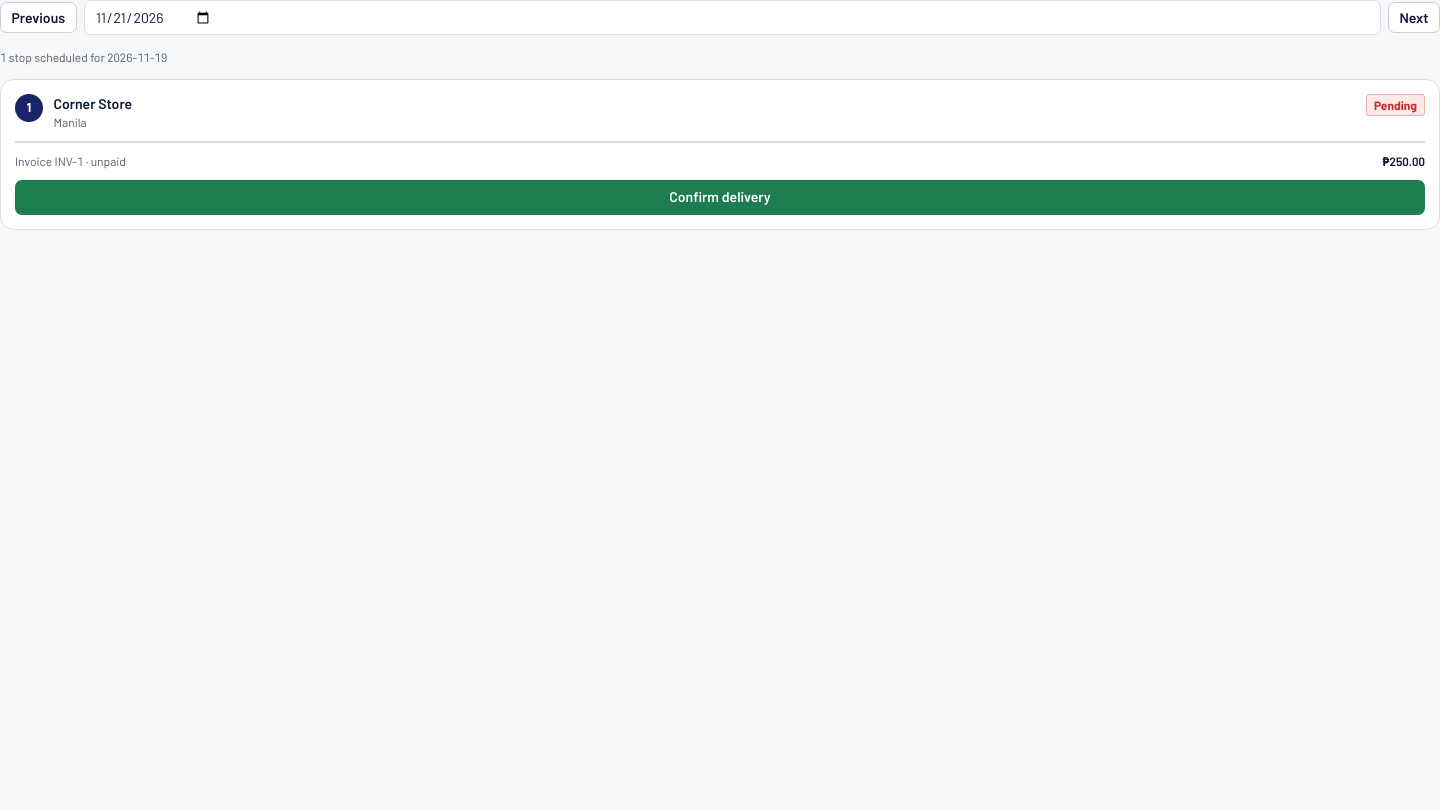
Scenario: DriverScheduleView › reloads the schedule after a stop is confirmed
Click the button "Confirm delivery".
click(720, 197)  # box top-left (15, 180), bottom-right (1425, 214)
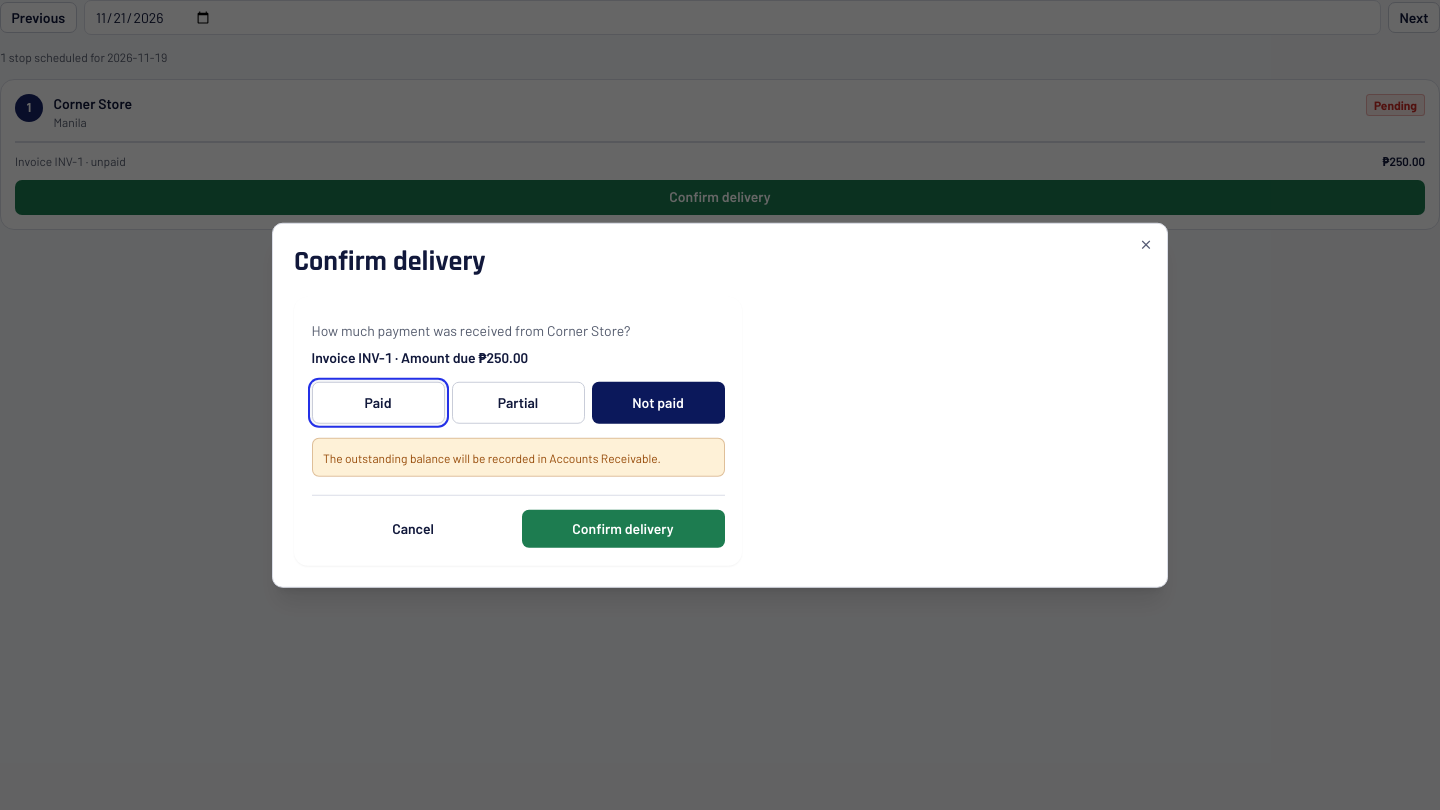
Click the button "Confirm delivery".
click(623, 529)  # box top-left (522, 509), bottom-right (724, 548)
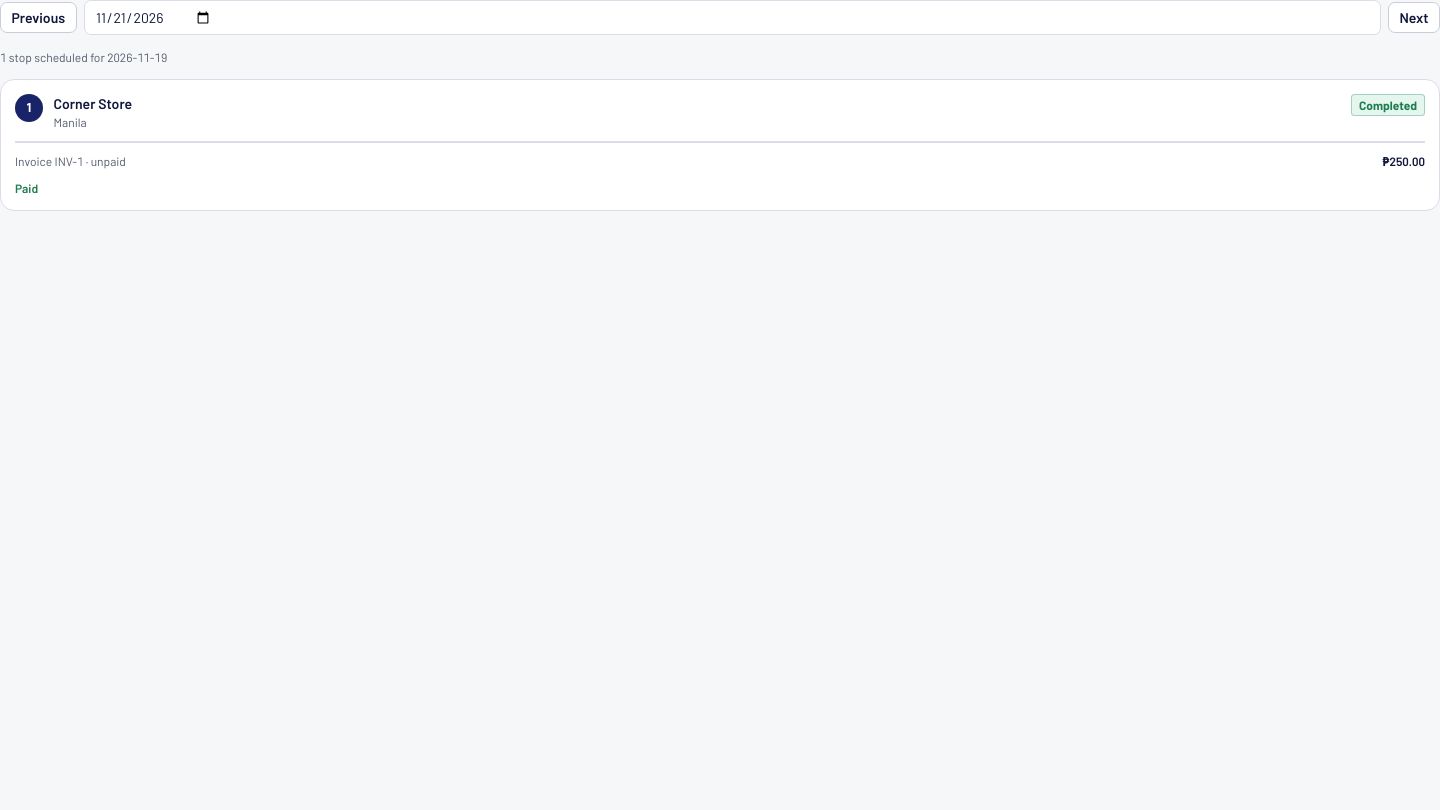
Expected: the text "Paid" is shown, top-left (15, 180), bottom-right (38, 196)
Expected: the button "Confirm delivery" is gone
